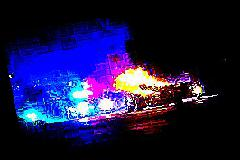fire: (108, 61, 169, 99)
